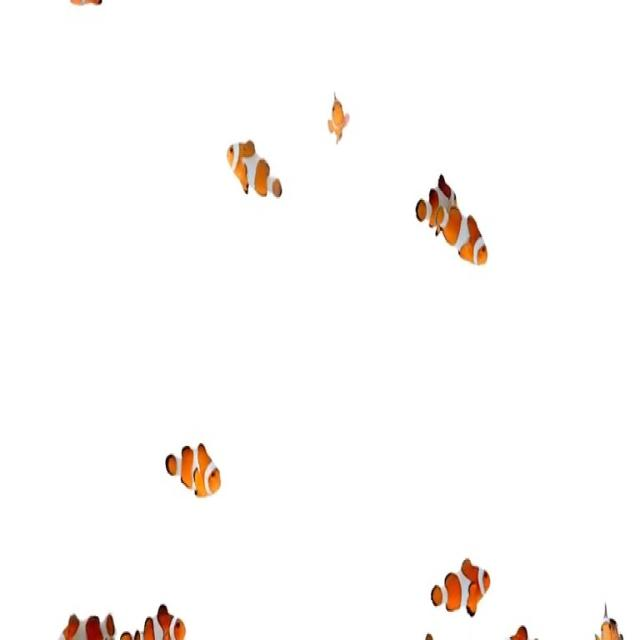fish: (228, 135, 287, 216), (427, 556, 493, 623), (161, 436, 223, 504), (436, 203, 488, 269), (414, 166, 458, 237), (51, 599, 115, 640), (322, 85, 352, 152), (140, 600, 188, 640)
